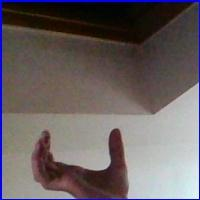space: (26, 122, 146, 198)
